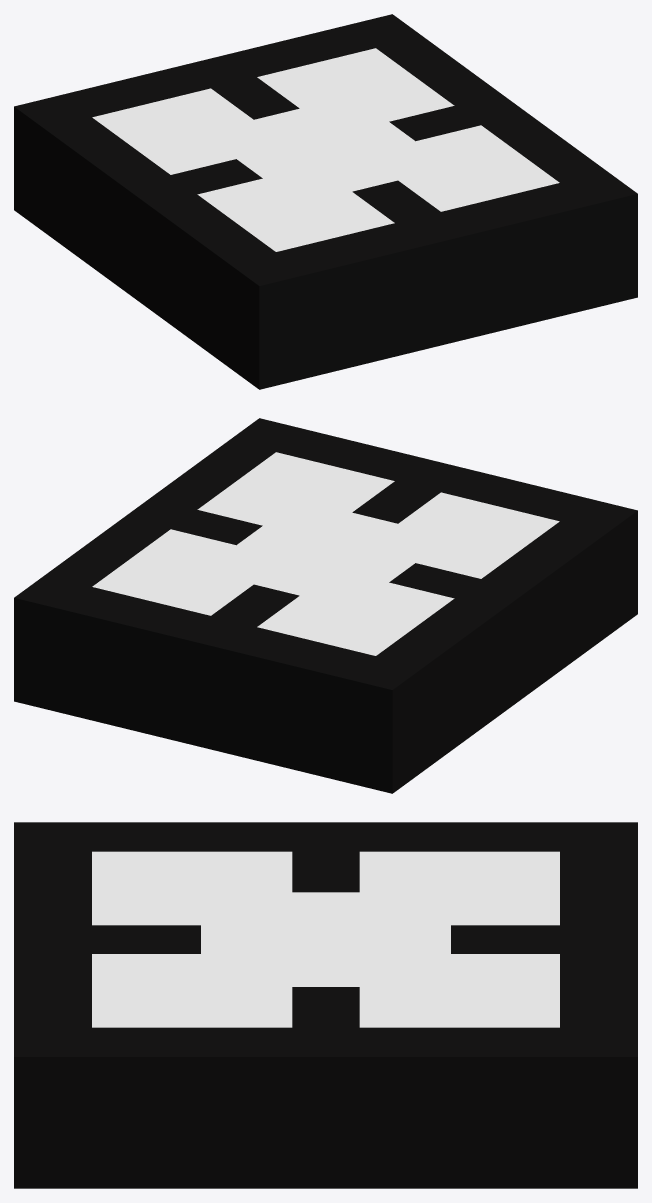
File: Font_Letter_X_01.fbx
The picture shows the model from 3 angles, top to bottom: view 1: azimuth 30°, elevation 25°; view 2: azimuth 150°, elevation 25°; view 3: azimuth 270°, elevation 25°; orthographic projection. The views are drawn at different scales.
Parts seen in each view (by area): view 1: Font_Letter_X_01; view 2: Font_Letter_X_01; view 3: Font_Letter_X_01.
Part boxes in pixels (x1,y1,x2,y2): Font_Letter_X_01: [14, 14, 637, 389]; Font_Letter_X_01: [14, 418, 637, 793]; Font_Letter_X_01: [14, 822, 637, 1188].
Size of the model in its own units: 74.41 by 19.48 by 83.57.
